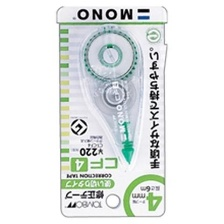book: (54, 2, 169, 219)
correction_fluid: (78, 23, 146, 170)
